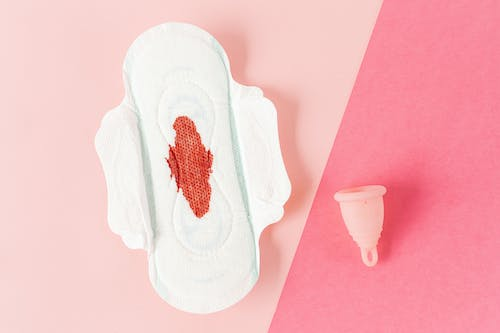blood: (162, 114, 215, 220)
